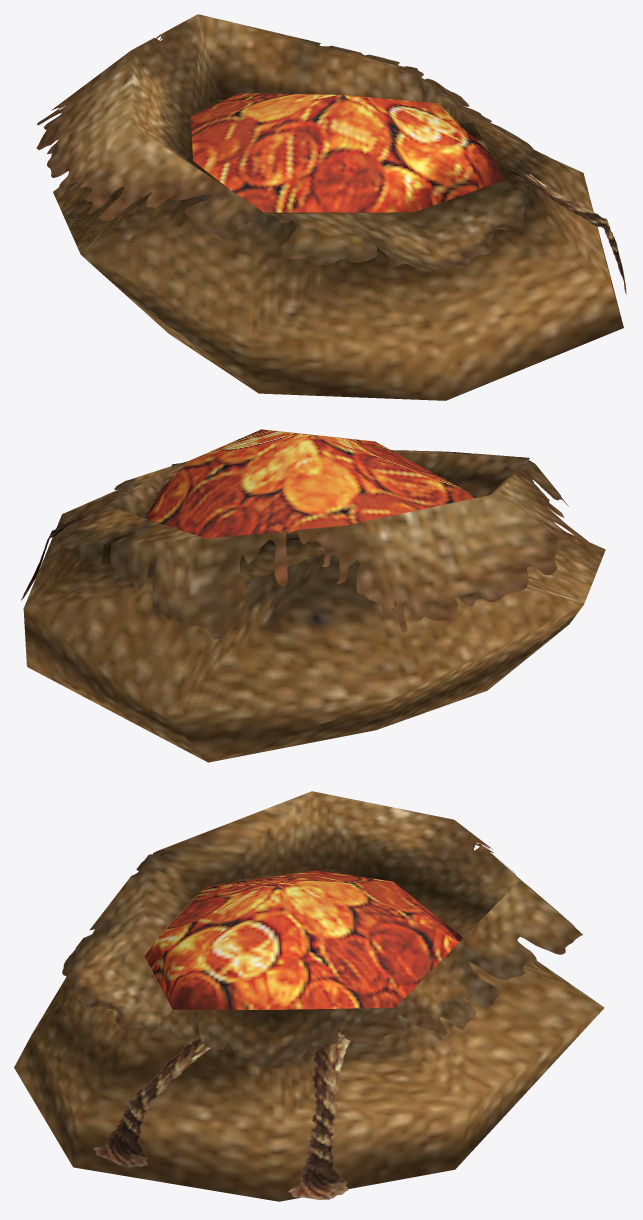
The model's file is QianDai.FBX.
3 renders of one model, top to bottom at view 1: azimuth 30°, elevation 25°; view 2: azimuth 150°, elevation 25°; view 3: azimuth 270°, elevation 25°, orthographic. The views are drawn at different scales.
Visible parts, largest first — view 1: Cube; view 2: Cube; view 3: Cube.
Boxes of the visible parts, box(x1,y1,x2,y2) form: Cube: box(36, 14, 626, 400); Cube: box(21, 429, 605, 762); Cube: box(14, 791, 604, 1201).
Size of the model in its own units: 1.69 by 0.6005 by 1.62.
